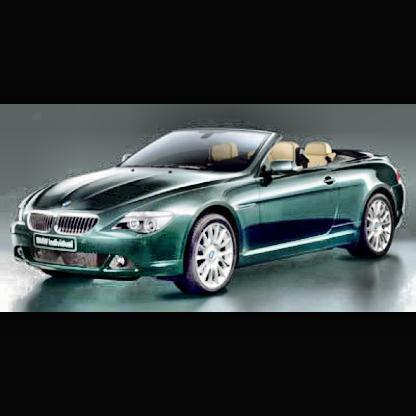BMW 6 Series Convertible 2007: (11, 129, 410, 294)
